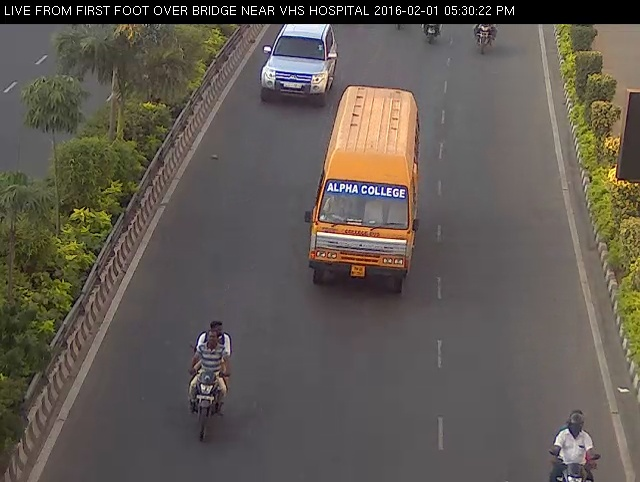Bus: (302, 70, 424, 312)
Car: (255, 16, 340, 112)
Person: (184, 312, 236, 453), (536, 393, 612, 482), (470, 16, 501, 62)
